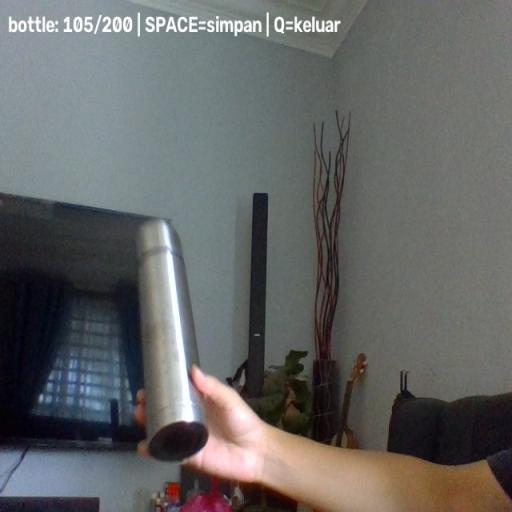Bottle: (136, 219, 210, 462)
